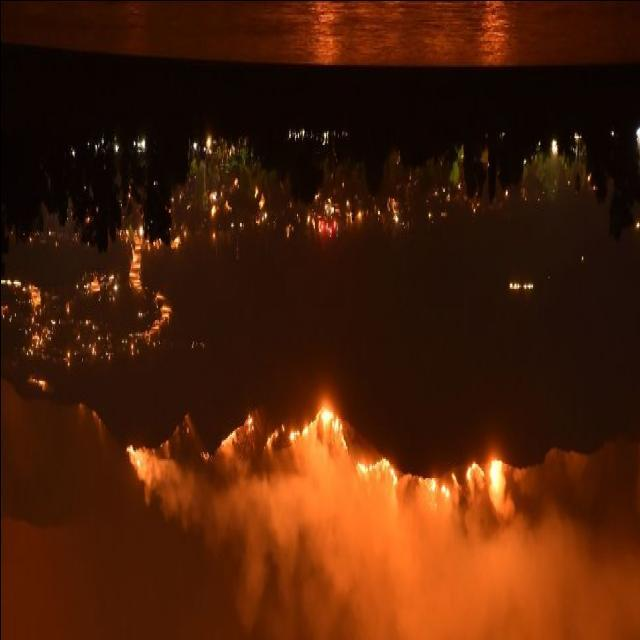Fire: (125, 406, 517, 508)
